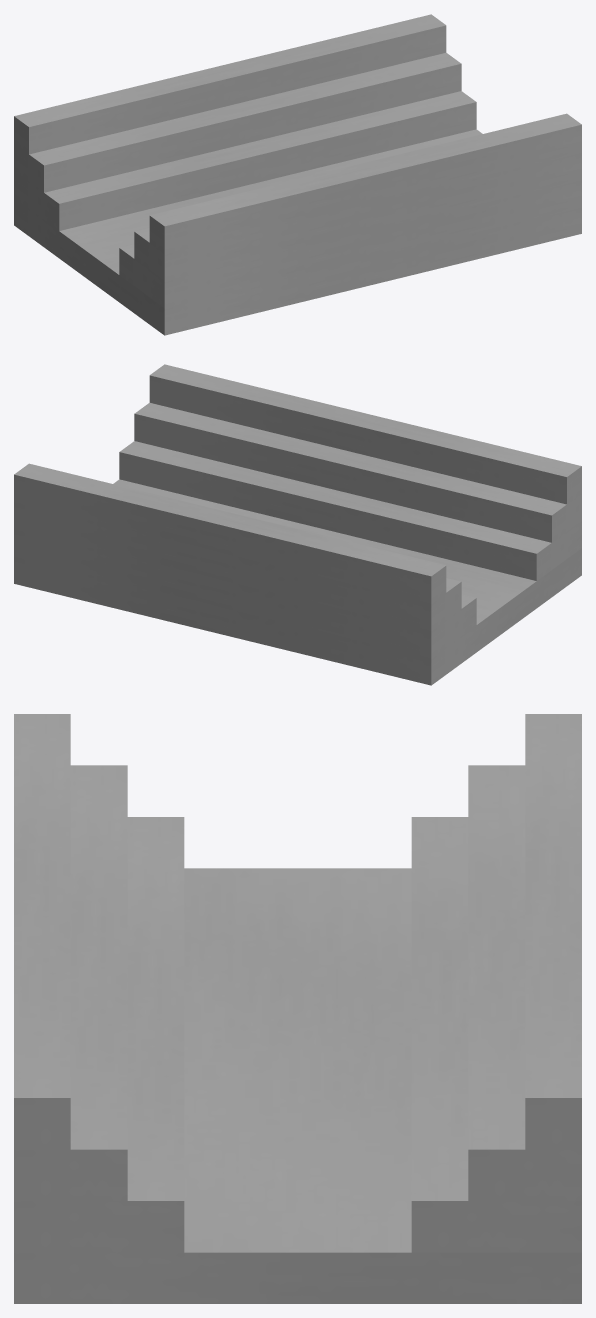
File: mosaic_light_multi_small_base.obj
The picture shows the model from 3 angles, top to bottom: view 1: azimuth 30°, elevation 25°; view 2: azimuth 150°, elevation 25°; view 3: azimuth 270°, elevation 25°; orthographic projection. The views are drawn at different scales.
Parts seen in each view (by area): view 1: 0, 1, 2, 3, 4, 6, 5; view 2: 0, 6, 5, 4, 3, 1, 2; view 3: 0, 1, 6, 2, 5, 3, 4.
Part boxes in pixels (x1,y1,x2,y2): 0: (14, 129, 581, 335); 1: (14, 91, 476, 230); 2: (14, 52, 461, 192); 3: (14, 14, 446, 154); 4: (149, 113, 581, 253); 6: (119, 179, 581, 308); 5: (134, 152, 581, 280); 0: (14, 479, 581, 685); 6: (119, 441, 581, 580); 5: (134, 402, 581, 542); 4: (149, 364, 581, 504); 3: (14, 463, 446, 603); 1: (14, 529, 476, 658); 2: (14, 502, 461, 630); 0: (14, 868, 581, 1303); 1: (411, 817, 581, 1252); 6: (14, 817, 184, 1252); 2: (468, 765, 581, 1200); 5: (14, 765, 127, 1200); 3: (525, 714, 581, 1149); 4: (14, 714, 70, 1149).
Size of the model in its own units: 16 by 4 by 10.
